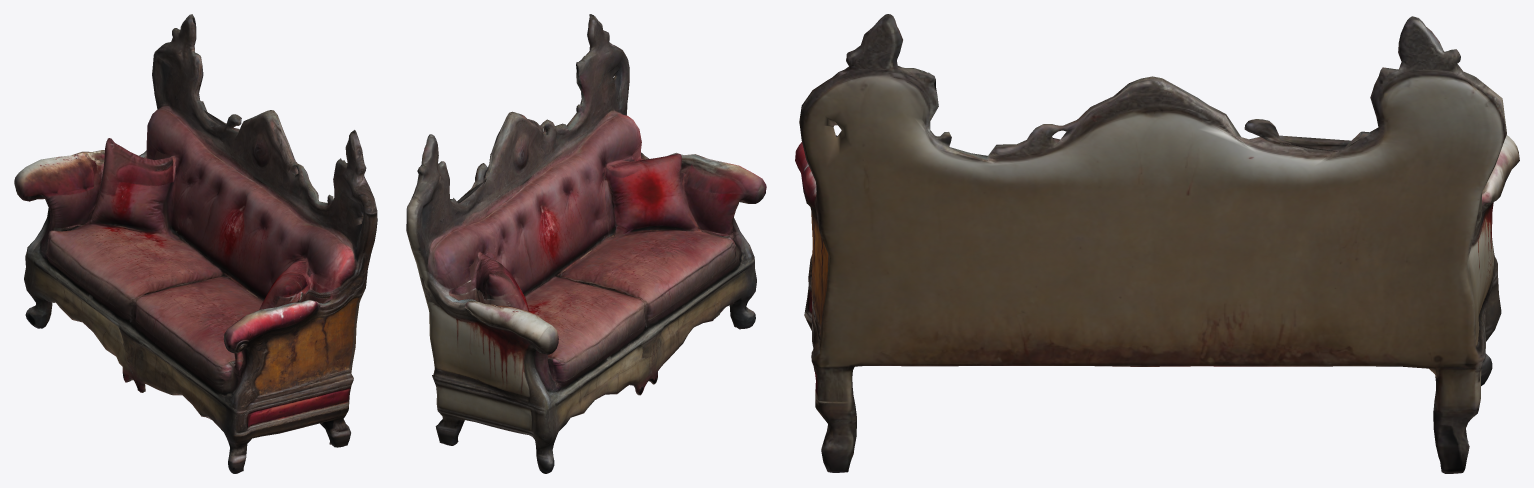
Rendered from creepy_old_balkan_so_0124162059_texture.fbx.
3 renders of one model, left to right at view 1: azimuth 30°, elevation 25°; view 2: azimuth 150°, elevation 25°; view 3: azimuth 270°, elevation 25°, orthographic. The views are drawn at different scales.
Visible parts, largest first — view 1: Mesh1_Mesh1.081; view 2: Mesh1_Mesh1.081; view 3: Mesh1_Mesh1.081.
Part boxes in pixels (box(x1,y1,x2,y2)): Mesh1_Mesh1.081: box(14, 14, 377, 473); Mesh1_Mesh1.081: box(406, 14, 766, 473); Mesh1_Mesh1.081: box(795, 14, 1519, 473).
Size of the model in its own units: 79.18 by 146 by 200.
1 material, 1 textured.
